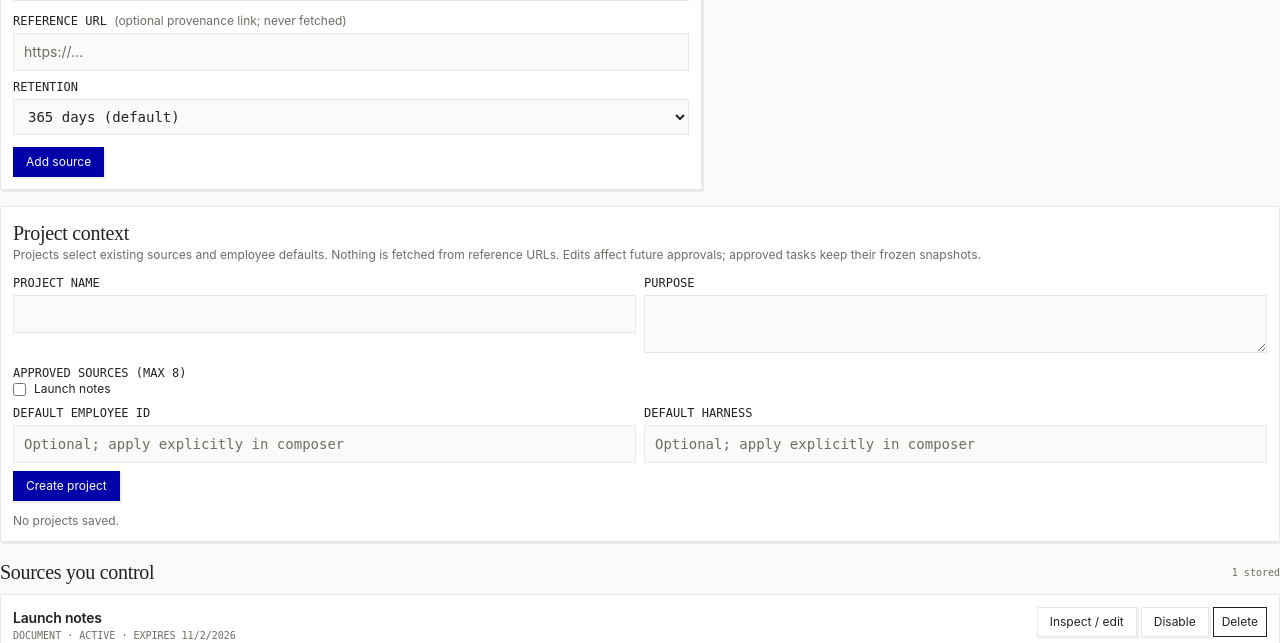
Test case: MemorySourcesView › preserves managed edits on stale-version conflict and refreshes CAS only for another human save
(page scrolled)
Click the button "Inspect / edit" at x=1087, y=622, box [1037,607,1137,637]
(page scrolled)
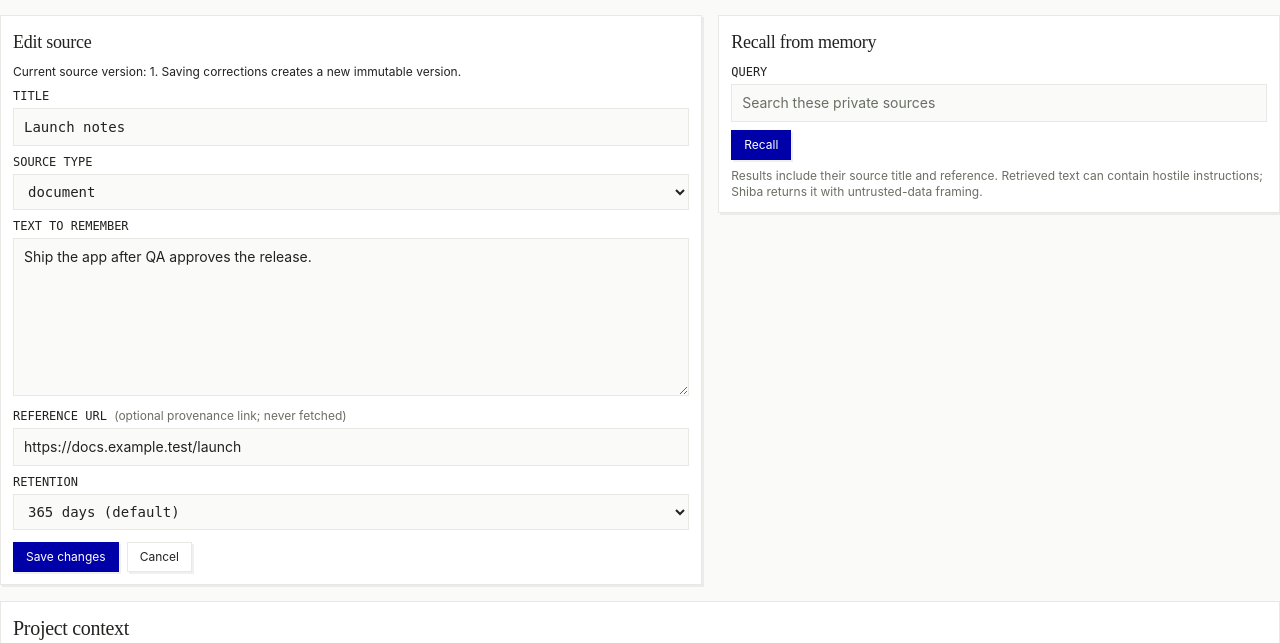
Replace the text in the text box labelled "TEXT TO REMEMBER" with "My corrected facts" at x=351, y=317, box [13,238,689,396]
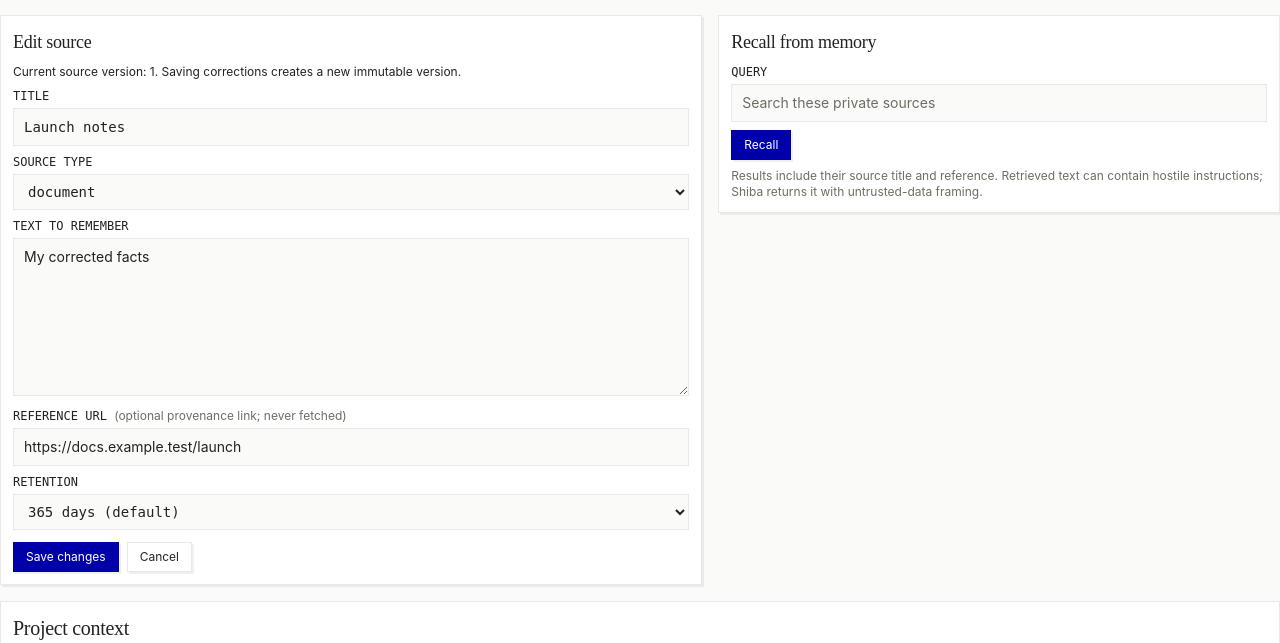
Click the button "Save changes" at x=66, y=557, box [13,542,119,572]
(page scrolled)
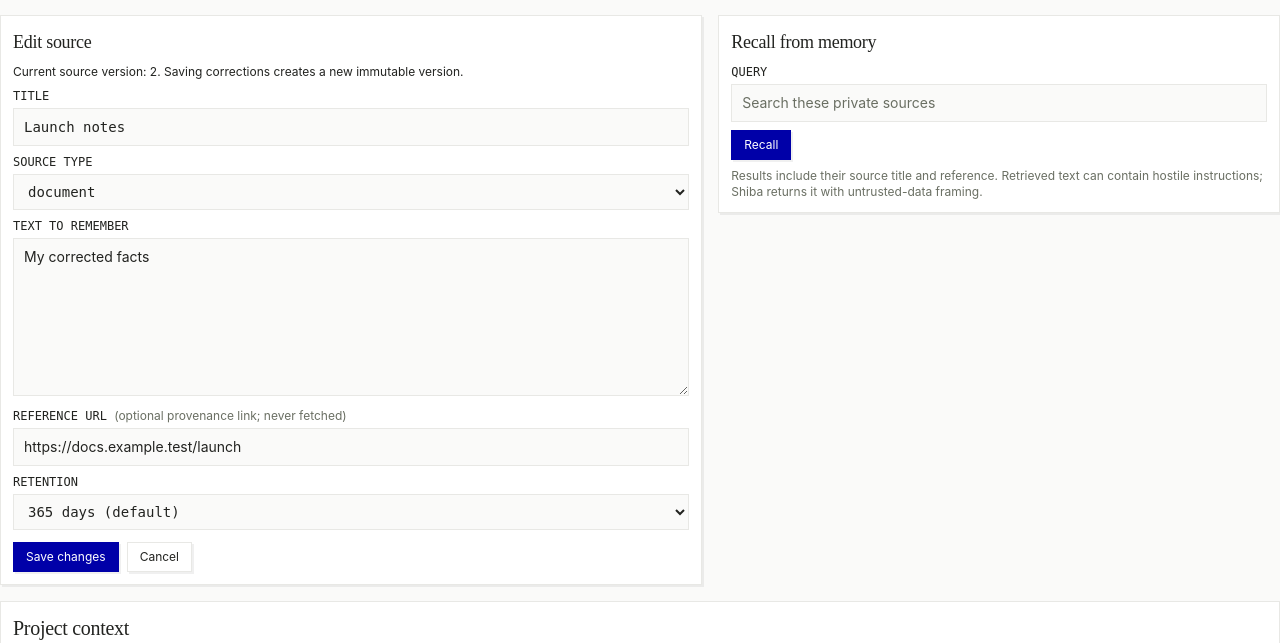
Now the text "Current source version: 2" is shown, box [13,64,464,79]
Click the button "Save changes" at x=66, y=557, box [13,542,119,572]
(page scrolled)
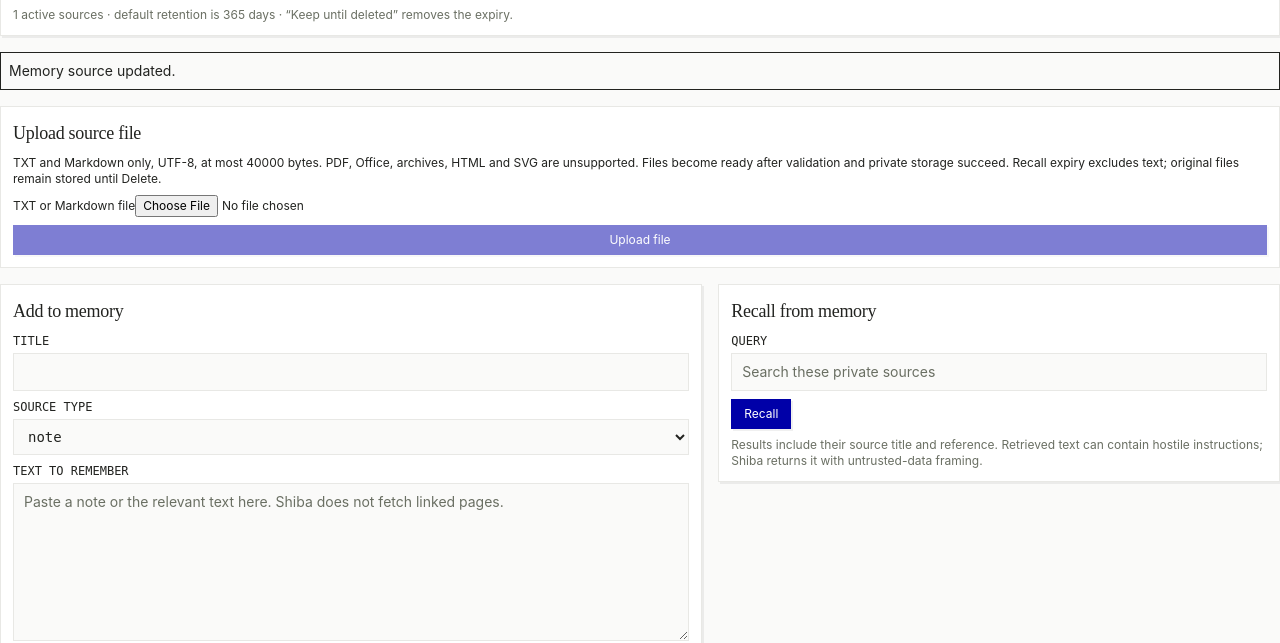
Now the text "Memory source updated." is shown, box [0,52,1279,90]
